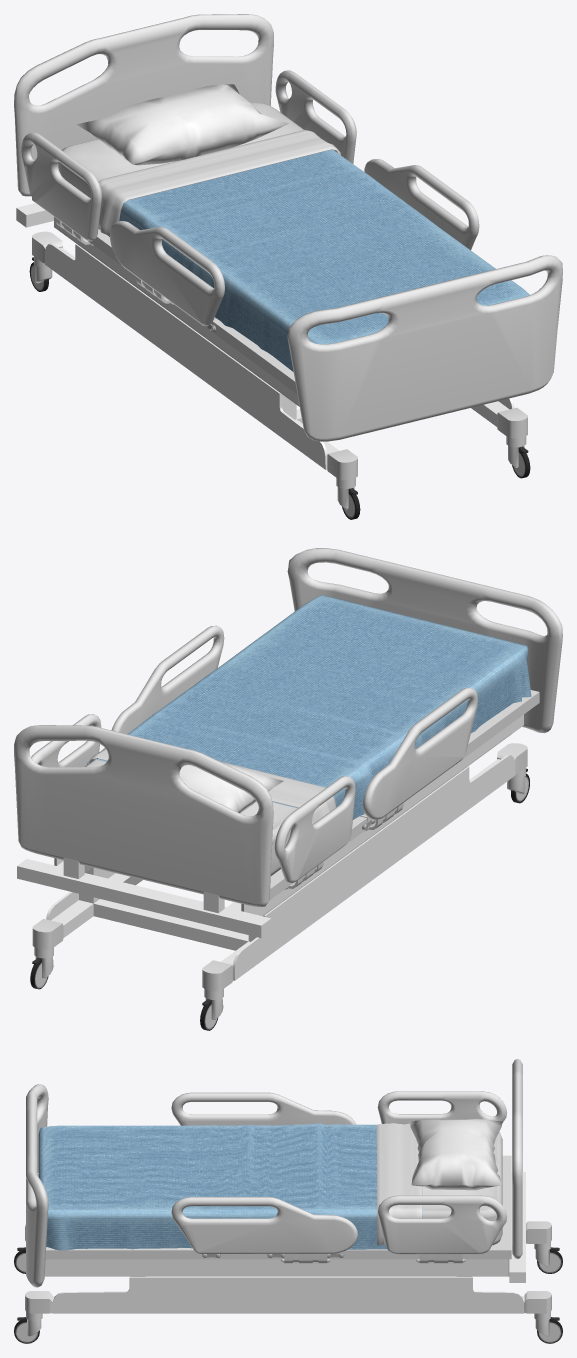
Rendered from medical_bed.glb.
3 views of the same model, one above another, from view 1: azimuth 30°, elevation 25°; view 2: azimuth 150°, elevation 25°; view 3: azimuth 270°, elevation 25° (orthographic). The views are drawn at different scales.
Visible parts, largest first — view 1: group54_polySurface1; view 2: group54_polySurface1; view 3: group54_polySurface1.
Part boxes in pixels (left/top/right/bottom): group54_polySurface1: left=14, top=14, right=562, bottom=519; group54_polySurface1: left=14, top=548, right=562, bottom=1030; group54_polySurface1: left=14, top=1059, right=562, bottom=1343.
Bounding box in the file's own units: 1.14 × 1.02 × 2.36.
Materials: 1 (1 with a texture image).
